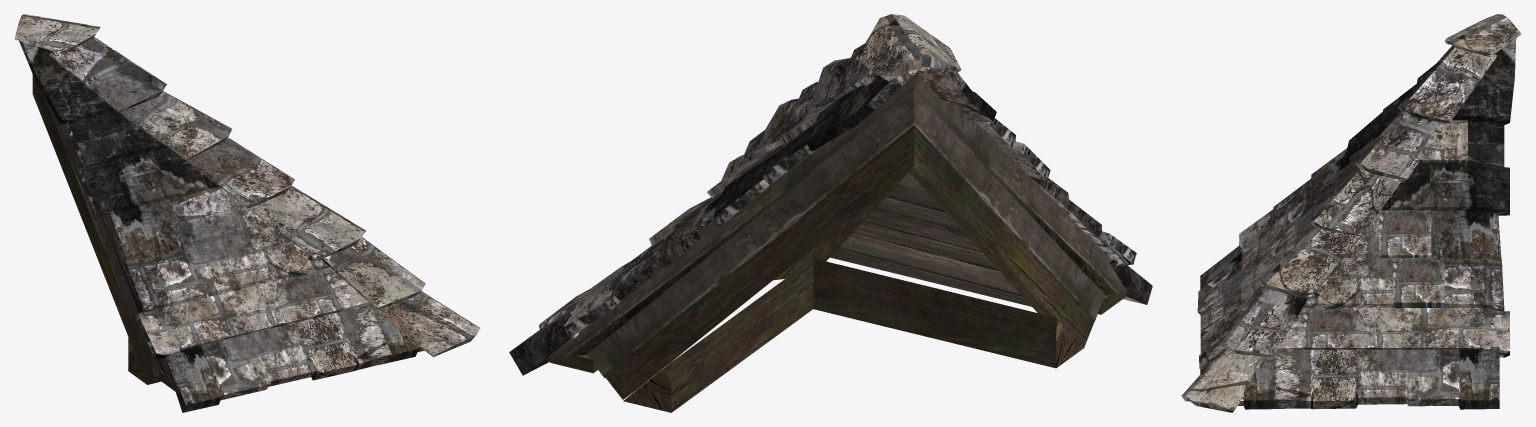
3 views of the same model, side by side, from view 1: azimuth 30°, elevation 25°; view 2: azimuth 150°, elevation 25°; view 3: azimuth 270°, elevation 25° (orthographic). The views are drawn at different scales.
Parts seen in each view (by area): view 1: SM_T3_Roof_Med_Hip_LOD0; view 2: SM_T3_Roof_Med_Hip_LOD0; view 3: SM_T3_Roof_Med_Hip_LOD0.
Part boxes in pixels (x1,y1,x2,y2): SM_T3_Roof_Med_Hip_LOD0: (14,14,480,412); SM_T3_Roof_Med_Hip_LOD0: (509,14,1152,412); SM_T3_Roof_Med_Hip_LOD0: (1181,14,1521,412).
Bounding box in the file's own units: 2.38 × 2.09 × 2.38.
Materials: 3 (3 with a texture image).
